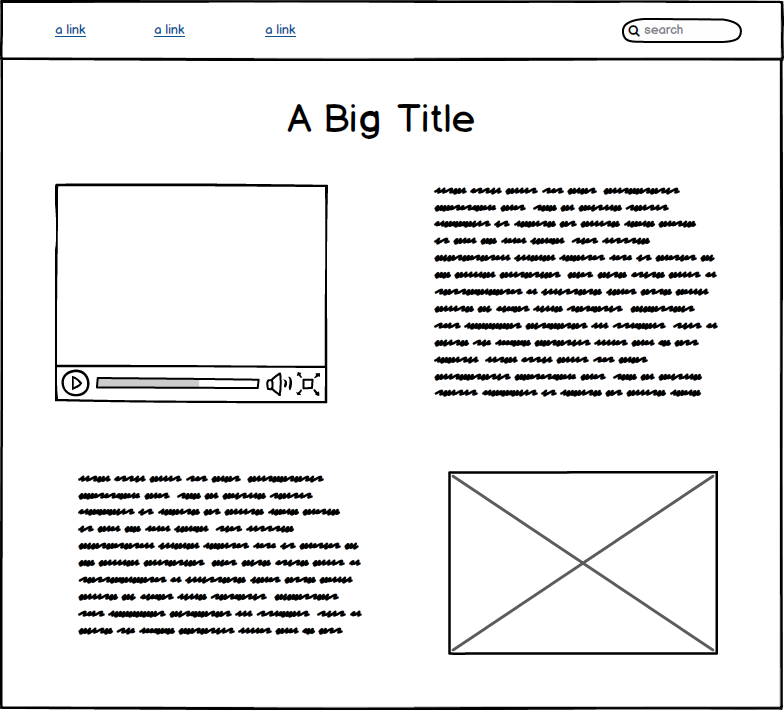h1: (276, 97, 483, 144)
image: (438, 466, 725, 665)
navlink: (148, 17, 198, 42), (260, 17, 304, 44), (49, 19, 90, 42)
p: (427, 180, 724, 403), (72, 466, 372, 647)
search: (618, 14, 745, 46)
video: (47, 177, 337, 409)
